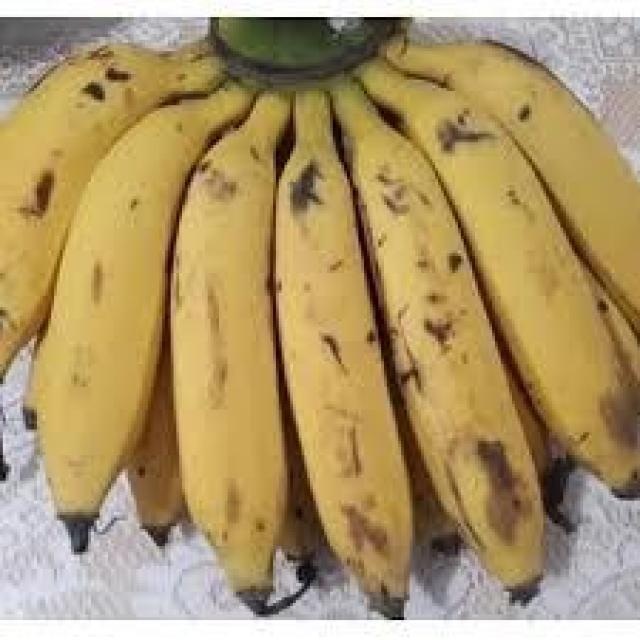banana: (5, 25, 640, 620), (356, 125, 552, 606), (424, 82, 640, 500), (31, 111, 199, 555), (276, 148, 424, 620), (168, 128, 296, 614)
